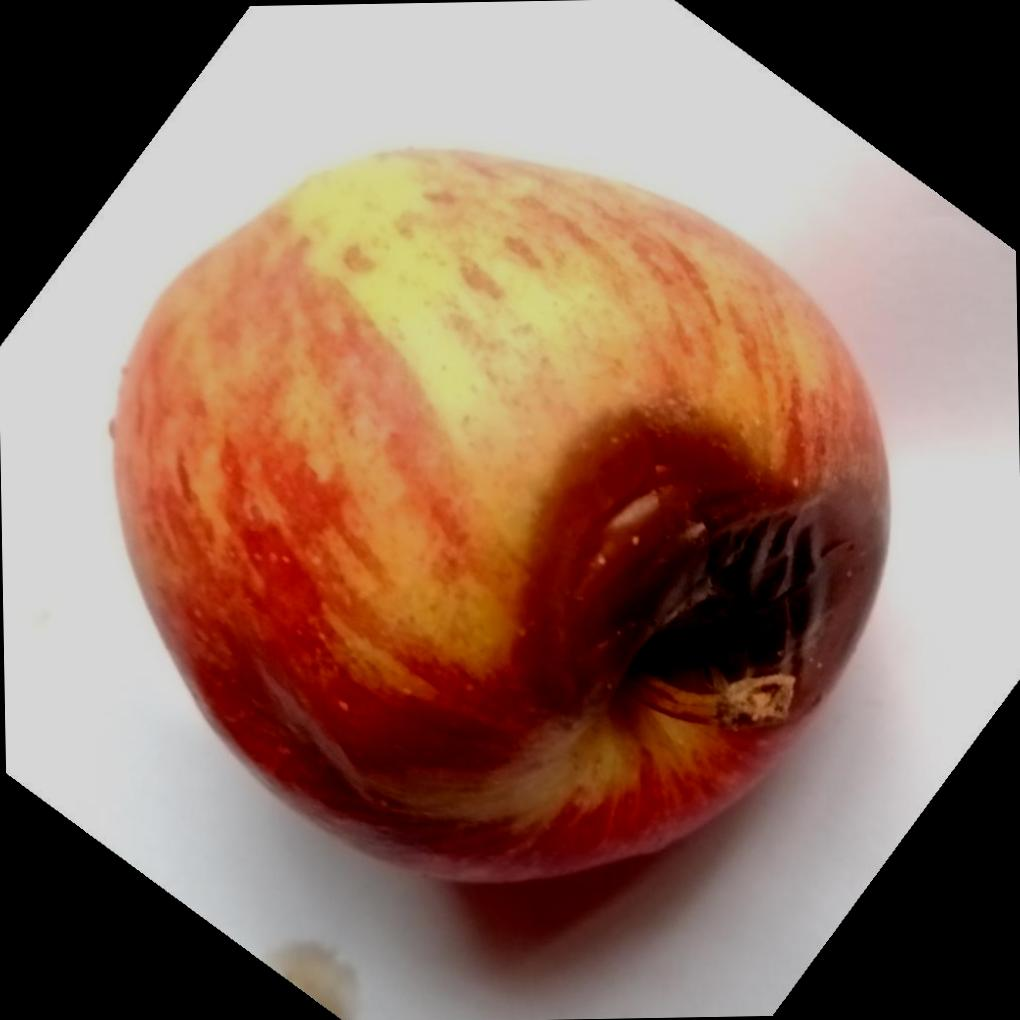FreshOrange: (104, 142, 893, 882)
